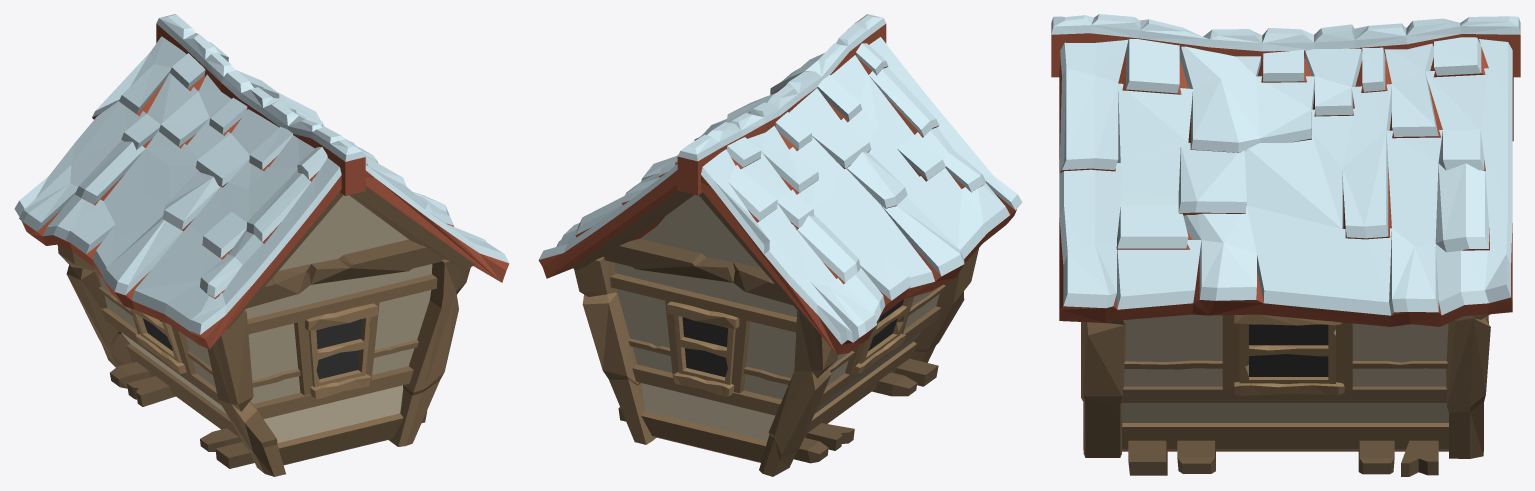
Rendered from SM_Bld_House_TopRoomSmall_01_Snow.gltf.
3 renders of one model, left to right at view 1: azimuth 30°, elevation 25°; view 2: azimuth 150°, elevation 25°; view 3: azimuth 270°, elevation 25°, orthographic. The views are drawn at different scales.
Parts seen in each view (by area): view 1: SM_Bld_House_TopRoomSmall_01_Snow; view 2: SM_Bld_House_TopRoomSmall_01_Snow; view 3: SM_Bld_House_TopRoomSmall_01_Snow.
Boxes of the visible parts, x1=… form: SM_Bld_House_TopRoomSmall_01_Snow: x1=14, y1=14, x2=509, y2=476; SM_Bld_House_TopRoomSmall_01_Snow: x1=538, y1=14, x2=1022, y2=476; SM_Bld_House_TopRoomSmall_01_Snow: x1=1051, y1=14, x2=1520, y2=476.
Bounding box in the file's own units: 4.68 × 4.37 × 4.67.
1 material, 1 textured.
